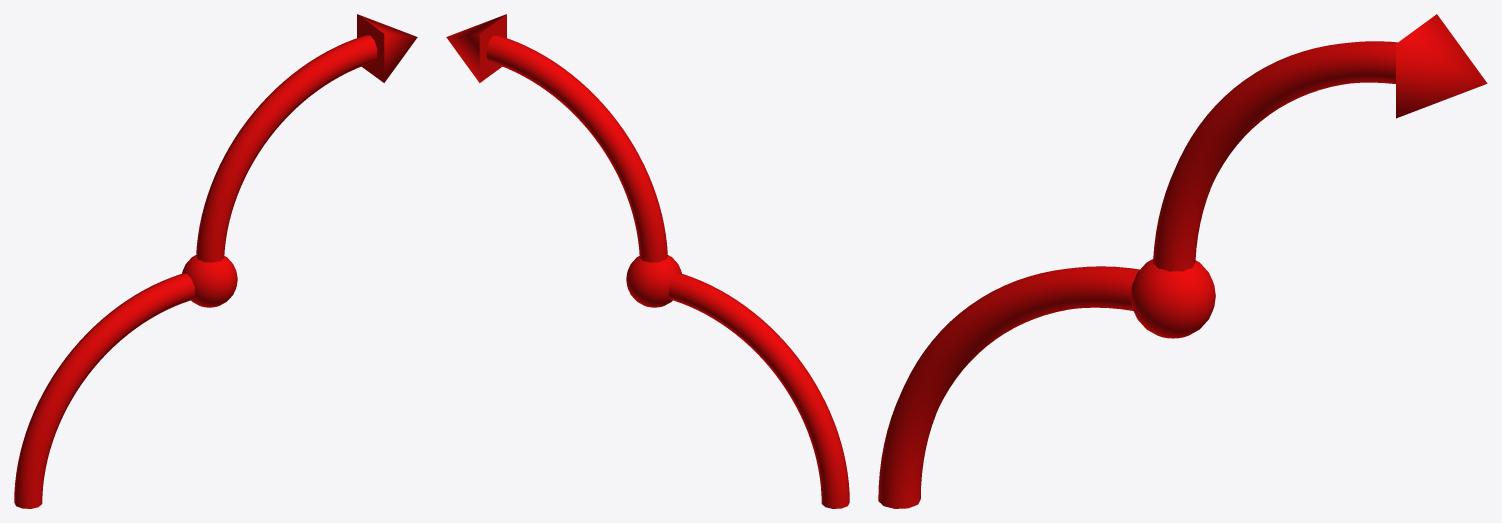
File: DoubleJump.FBX
The picture shows the model from 3 angles, left to right: view 1: azimuth 30°, elevation 25°; view 2: azimuth 150°, elevation 25°; view 3: azimuth 330°, elevation 25°; orthographic projection. The views are drawn at different scales.
Visible parts, largest first — view 1: Pyramide_1; view 2: Pyramide_1; view 3: Pyramide_1.
Part boxes in pixels (x1,y1,x2,y2): Pyramide_1: [14, 14, 417, 508]; Pyramide_1: [446, 14, 849, 508]; Pyramide_1: [878, 14, 1487, 508].
Size of the model in its own units: 64.56 by 7.87 by 60.74.
